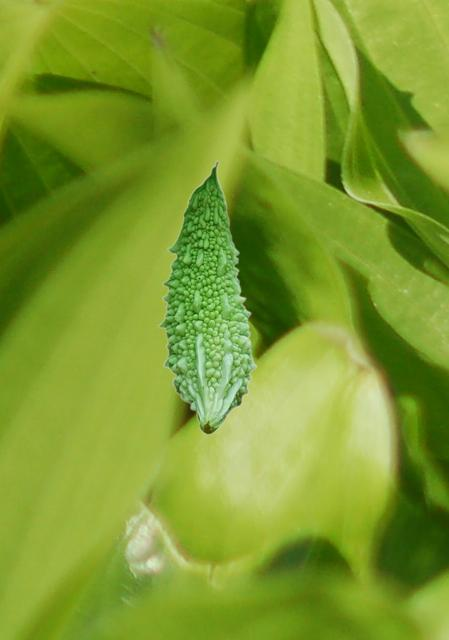ampalaya: (157, 159, 257, 435)
